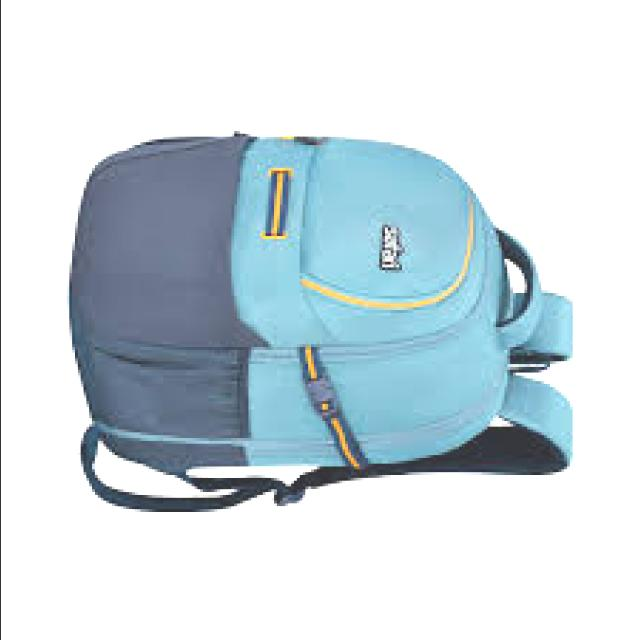backpack: (70, 129, 579, 513)
